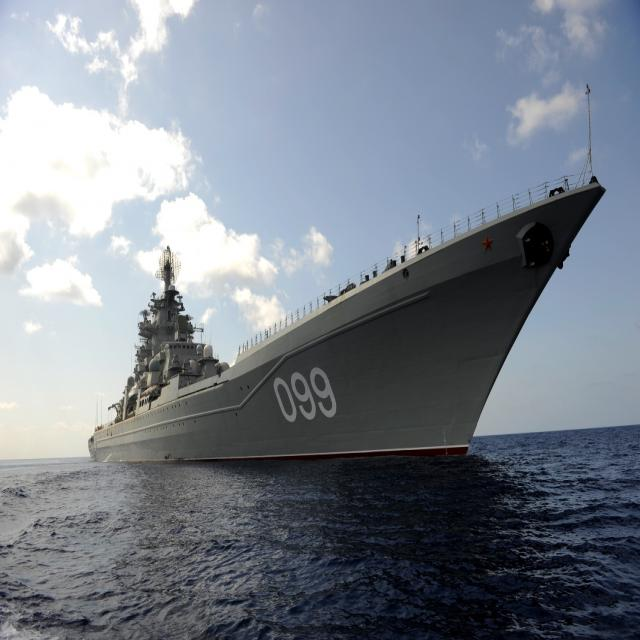navalvessels: (83, 173, 611, 492)
